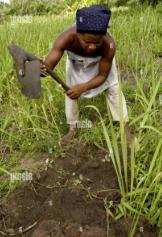HOUE: (5, 40, 72, 112)
